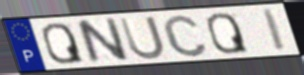C: (160, 13, 211, 59)
I: (260, 7, 289, 53)
N: (73, 16, 132, 66)
Q: (40, 21, 87, 65), (204, 11, 251, 55)
U: (116, 14, 167, 61)
